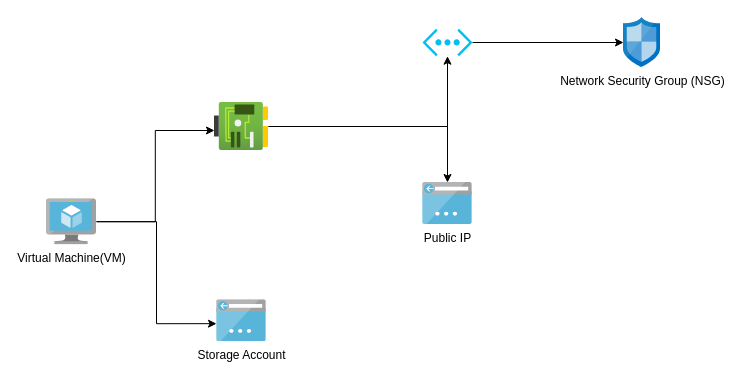
This 741x380 diagram has some shape labels left out. The centre of each missing label's shape, as x and y in pixels:
"Network Interface (NIC)" goes at point (241, 126).
"Virtual Network (vnet)" goes at point (447, 42).
